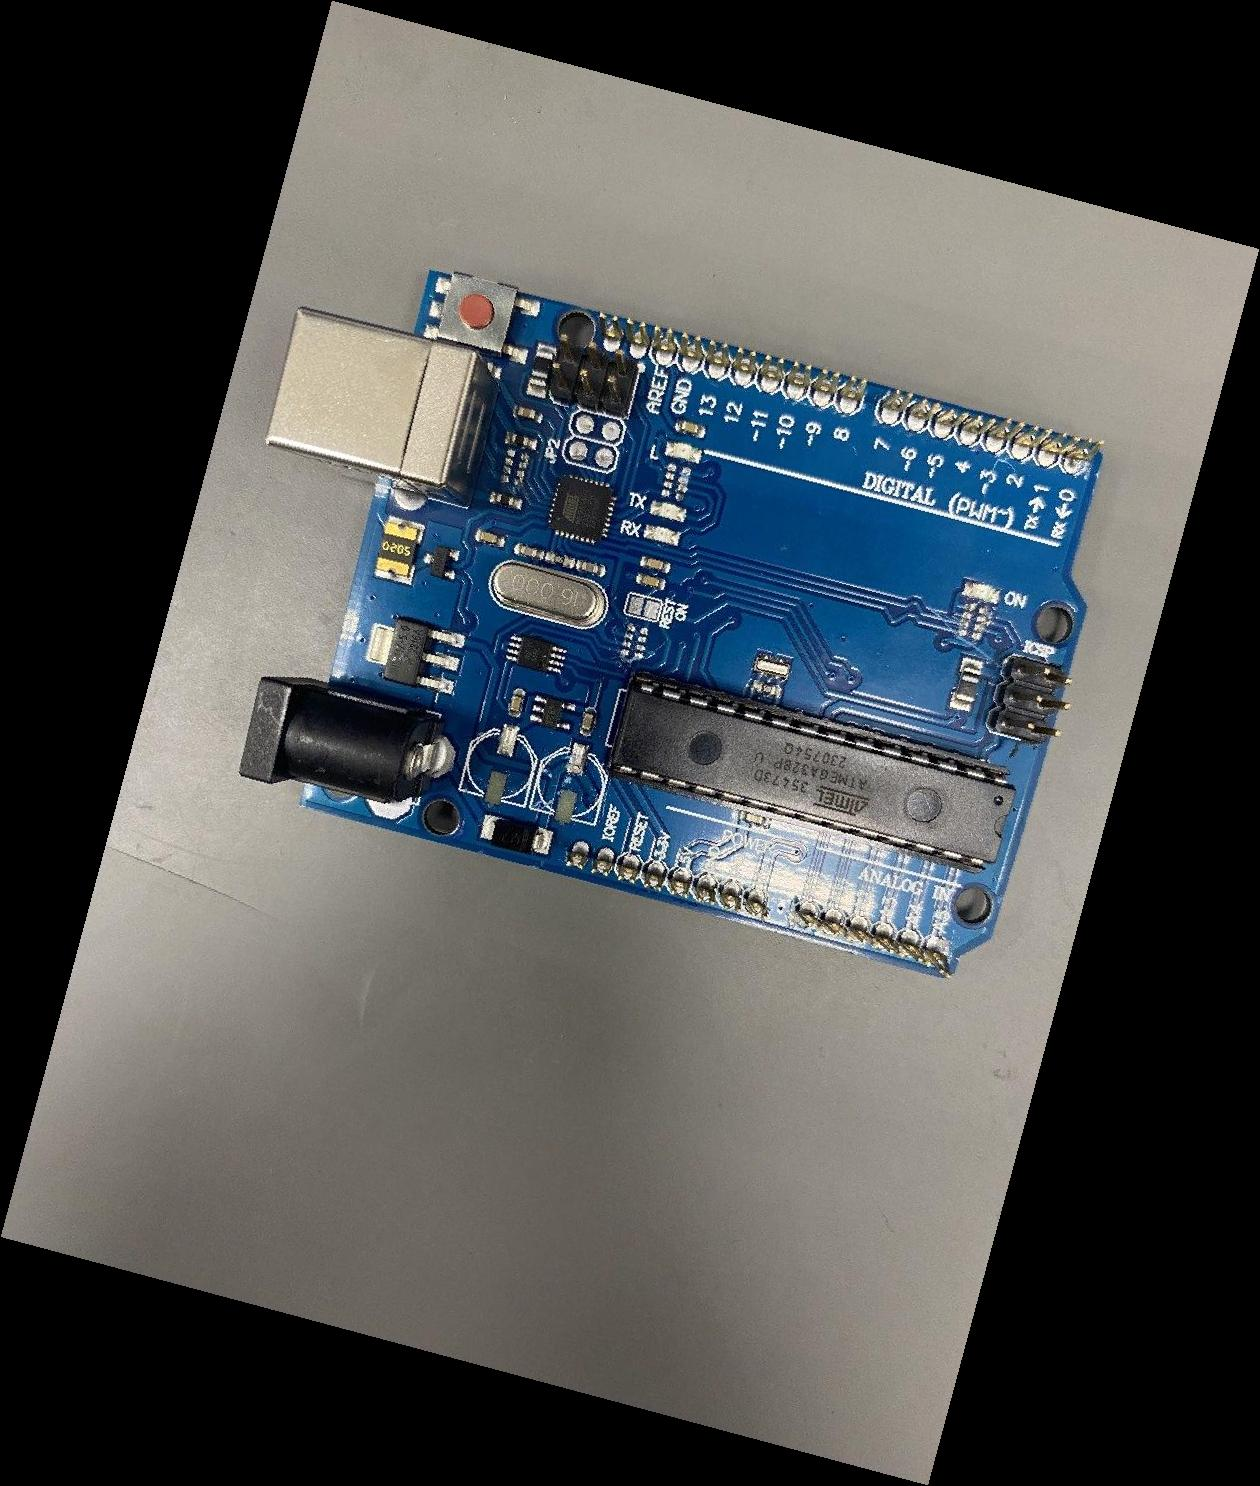ATmega328 chip: (606, 670, 1016, 876)
Arduino board: (239, 270, 1104, 980)
USB: (262, 305, 501, 510)
